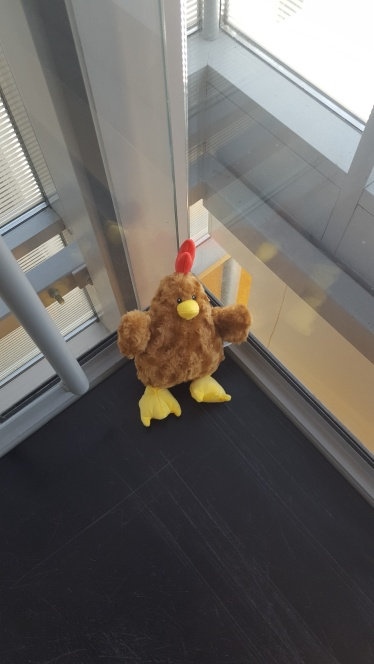chicken_front: (116, 237, 253, 426)
